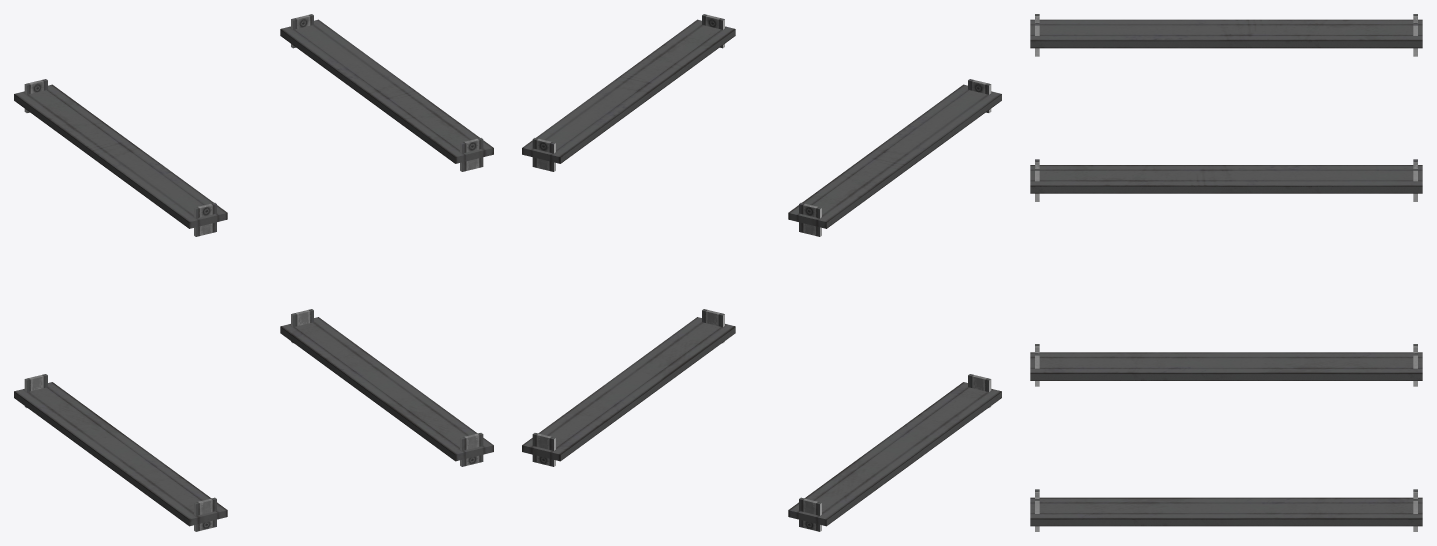
File: Subway_Vents_Frame.fbx
3 renders of one model, left to right at view 1: azimuth 30°, elevation 25°; view 2: azimuth 150°, elevation 25°; view 3: azimuth 270°, elevation 25°, orthographic. The views are drawn at different scales.
Parts seen in each view (by area): view 1: polySurface785; view 2: polySurface785; view 3: polySurface785.
Boxes of the visible parts, x1,y1,x2,y2 form: polySurface785: (14,14,493,531); polySurface785: (522,14,1001,531); polySurface785: (1030,14,1422,531).
Bounding box in the file's own units: 87.25 × 88.34 × 86.96.
